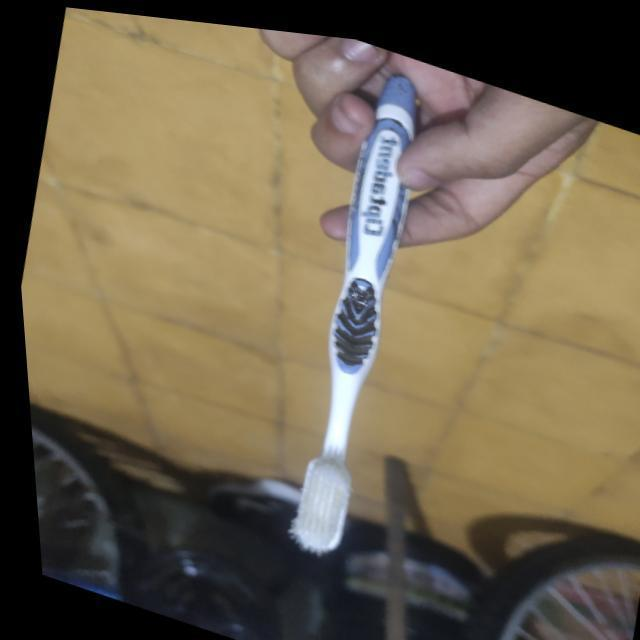toothbrush: (230, 27, 482, 586)
